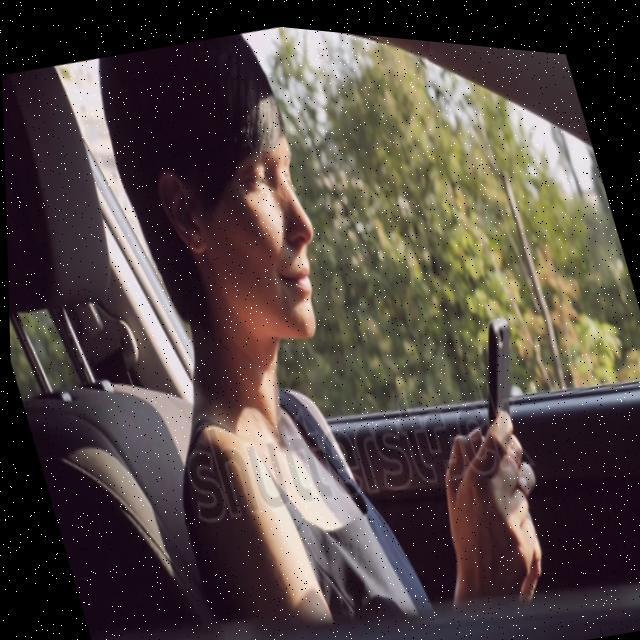PhoneCall: (459, 298, 538, 439)
